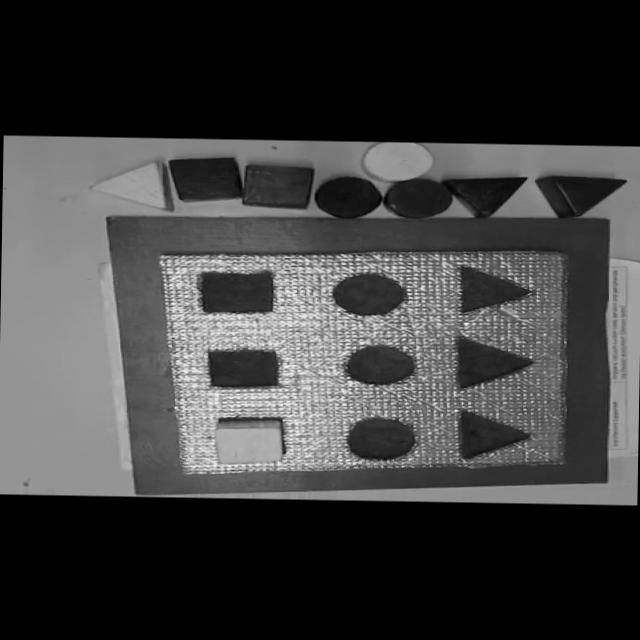bcircle: (314, 176, 382, 220)
bcube: (166, 156, 242, 204)
btriangle: (444, 176, 526, 218)
mtcircle: (330, 272, 408, 316), (344, 416, 420, 460), (342, 344, 418, 386)
mtcube: (198, 270, 278, 314), (205, 348, 284, 388)
mttriangle: (454, 334, 536, 390), (456, 409, 532, 461), (456, 266, 534, 314)
rcircle: (384, 177, 453, 219)
rcube: (241, 163, 313, 209)
rtriangle: (534, 174, 624, 218)
wb: (155, 244, 578, 482)
ycircle: (362, 142, 435, 183)
ycube: (212, 416, 286, 466)
ytriangle: (88, 161, 172, 210)
